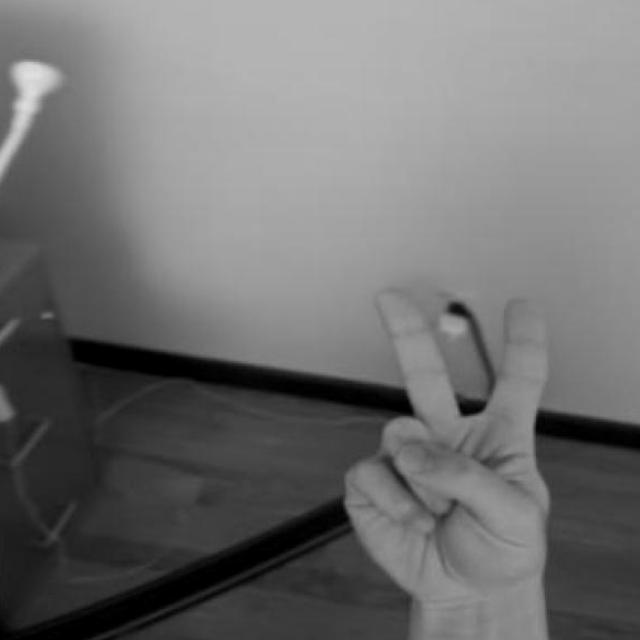V: (328, 279, 570, 640)
